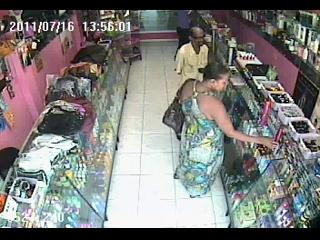Normal: (172, 62, 280, 198), (162, 78, 199, 140), (175, 26, 210, 86)
